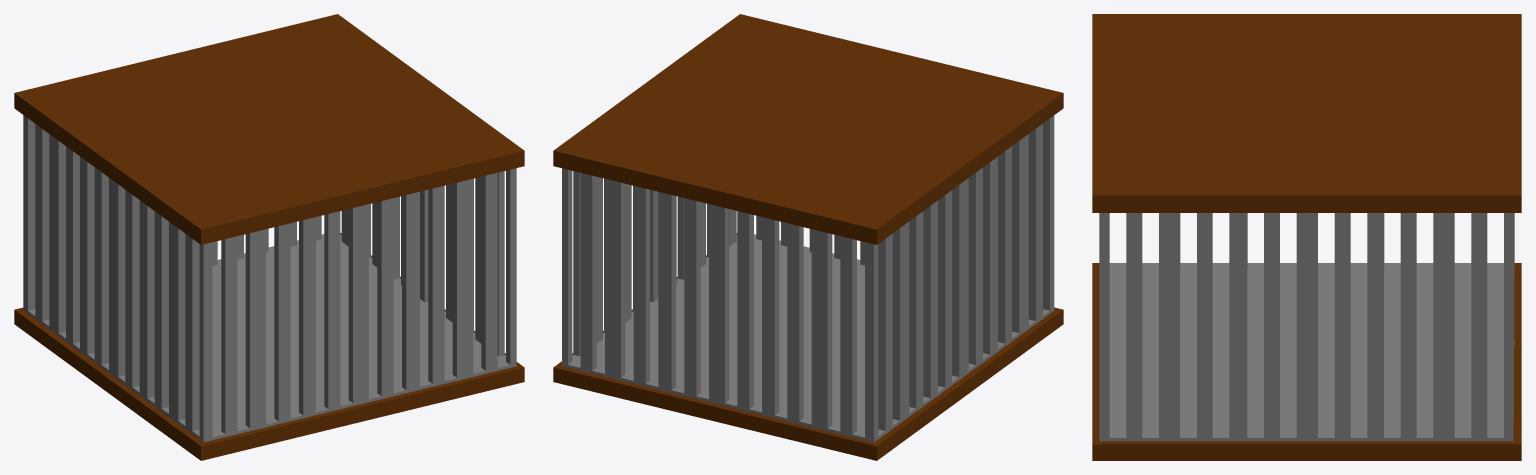
Rendered from prison.fbx.
3 renders of one model, left to right at view 1: azimuth 30°, elevation 25°; view 2: azimuth 150°, elevation 25°; view 3: azimuth 270°, elevation 25°, orthographic. The views are drawn at different scales.
Parts seen in each view (by area): view 1: PrisonCell; view 2: PrisonCell; view 3: PrisonCell.
Part boxes in pixels (bbox=[...]): PrisonCell: bbox=[14, 14, 524, 460]; PrisonCell: bbox=[553, 14, 1063, 460]; PrisonCell: bbox=[1092, 14, 1521, 460].
Size of the model in its own units: 576 by 394 by 576.
1 material, 1 textured.
